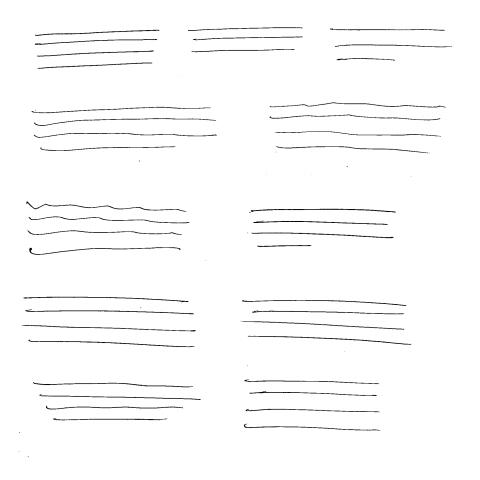Paragraph: (267, 100, 451, 155), (20, 200, 191, 258), (25, 296, 201, 351), (30, 105, 221, 154), (240, 299, 413, 348), (241, 378, 387, 436), (37, 382, 202, 424), (247, 206, 396, 250), (32, 29, 161, 72), (327, 27, 457, 62), (185, 27, 304, 54)
